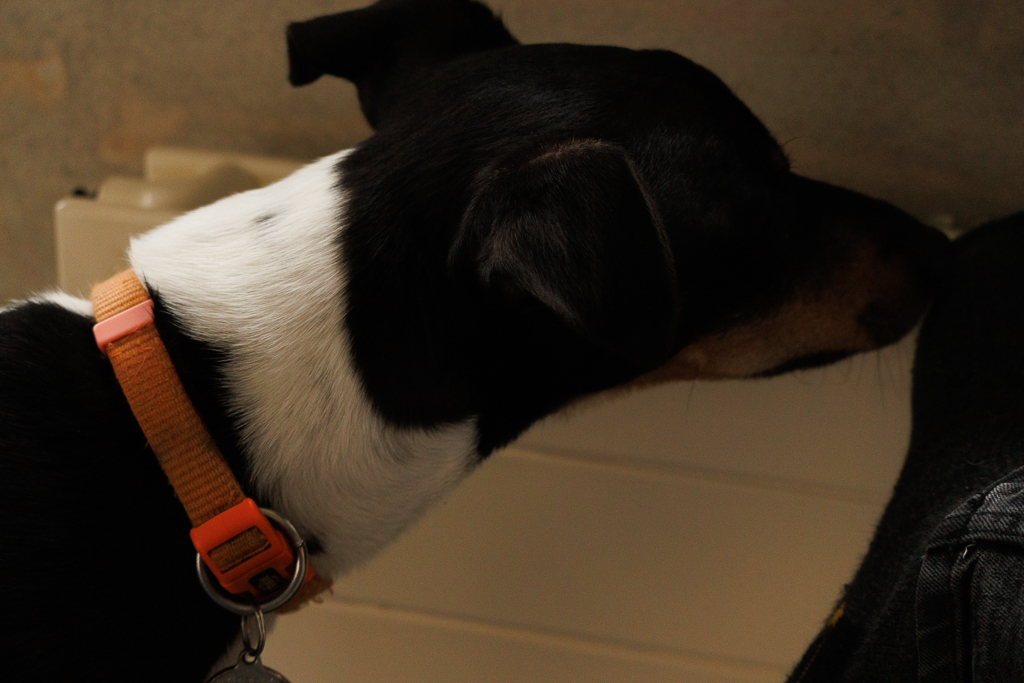Dog: (0, 0, 973, 683)
Humanoid: (779, 203, 1024, 683)
